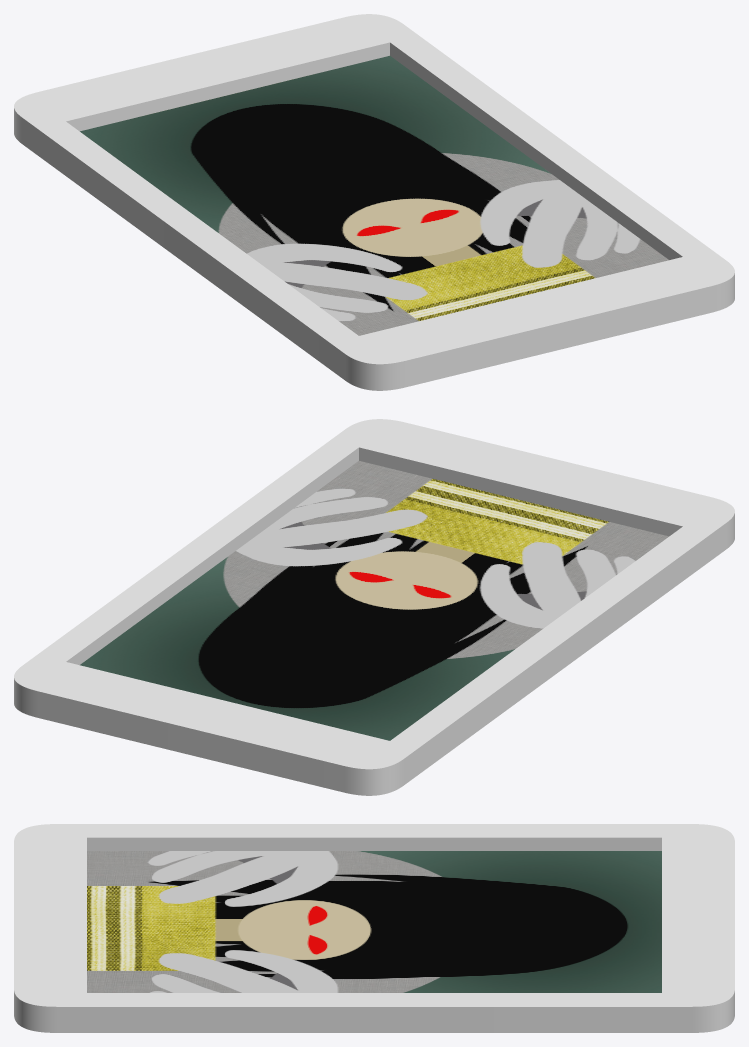
File: Obitha 1.fbx
3 views of the same model, one above another, from view 1: azimuth 30°, elevation 25°; view 2: azimuth 150°, elevation 25°; view 3: azimuth 270°, elevation 25° (orthographic).
Parts seen in each view (by area): view 1: Card V1; view 2: Card V1; view 3: Card V1.
Part boxes in pixels (x1,y1,x2,y2): Card V1: [14, 14, 734, 390]; Card V1: [14, 419, 734, 795]; Card V1: [14, 824, 734, 1032].
Bounding box in the file's own units: 4.72 × 0.315 × 7.87.
